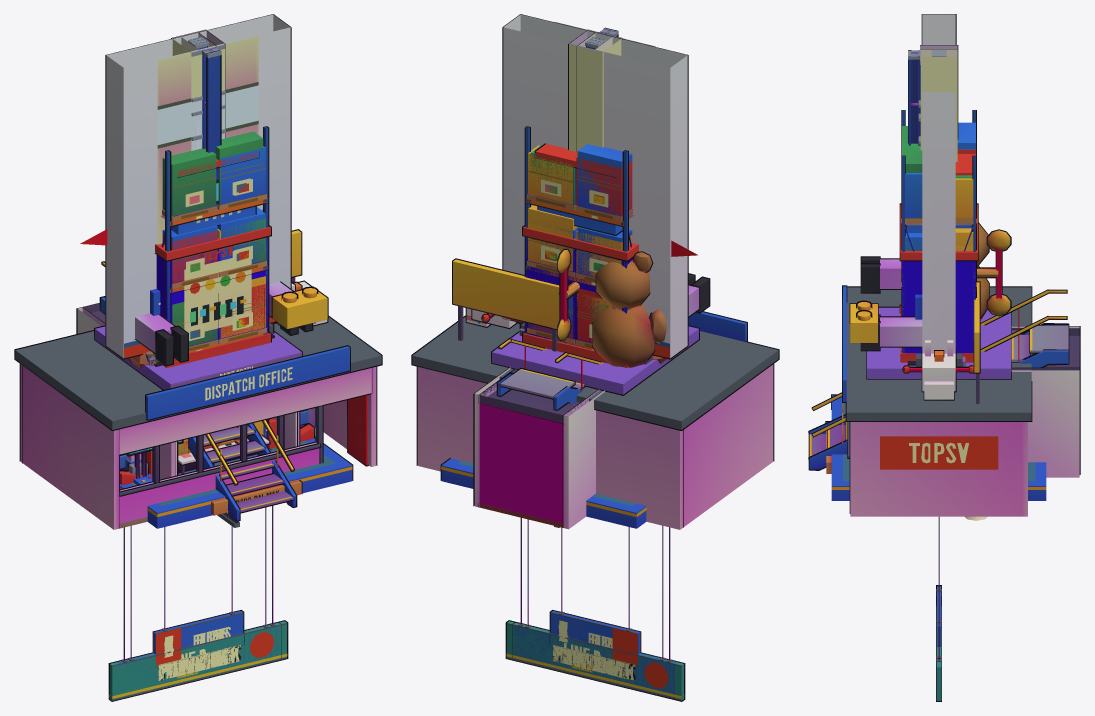
The model's file is fps-kit-toyfactory.glb.
3 views of the same model, side by side, from view 1: azimuth 30°, elevation 25°; view 2: azimuth 150°, elevation 25°; view 3: azimuth 270°, elevation 25° (orthographic). The views are drawn at different scales.
Parts seen in each view (by area): view 1: KIT_TOYFACTORY_Landmark_Office, KIT_TOYFACTORY_GateFrame, KIT_TOYFACTORY_Landmark_Robot, KIT_TOYFACTORY_Tall_EndR, KIT_TOYFACTORY_Tall_EndL, KIT_TOYFACTORY_Tall_A, KIT_TOYFACTORY_WK_Dock, KIT_TOYFACTORY_Dept_Loft, KIT_TOYFACTORY_Stair, KIT_TOYFACTORY_Booth, KIT_TOYFACTORY_WinK3, KIT_TOYFACTORY_Aisle_1 (+4 smaller); view 2: KIT_TOYFACTORY_Landmark_Office, KIT_TOYFACTORY_GateFrame, KIT_TOYFACTORY_WK_Dock, KIT_TOYFACTORY_Landmark_Robot, KIT_TOYFACTORY_Tall_EndR, KIT_TOYFACTORY_Tall_A, KIT_TOYFACTORY_Dept_Loft, KIT_TOYFACTORY_Line_A, KIT_TOYFACTORY_Booth, KIT_TOYFACTORY_CornerK, KIT_TOYFACTORY_Tall_EndL, KIT_TOYFACTORY_Aisle_1 (+3 smaller); view 3: KIT_TOYFACTORY_Landmark_Office, KIT_TOYFACTORY_Landmark_Robot, KIT_TOYFACTORY_GateFrame, KIT_TOYFACTORY_WK_Dock, KIT_TOYFACTORY_Stair, KIT_TOYFACTORY_Booth, KIT_TOYFACTORY_Tall_EndR, KIT_TOYFACTORY_Horse, KIT_TOYFACTORY_Tall_EndL, KIT_TOYFACTORY_CornerK, KIT_TOYFACTORY_WK_Col, KIT_TOYFACTORY_Tall_A (+3 smaller).
Boxes of the visible parts, <box> form: KIT_TOYFACTORY_Landmark_Office: <box>14,229,382,529</box>; KIT_TOYFACTORY_GateFrame: <box>105,14,291,365</box>; KIT_TOYFACTORY_Landmark_Robot: <box>120,151,353,528</box>; KIT_TOYFACTORY_Tall_EndR: <box>162,126,271,451</box>; KIT_TOYFACTORY_Tall_EndL: <box>161,146,266,455</box>; KIT_TOYFACTORY_Tall_A: <box>161,150,268,455</box>; KIT_TOYFACTORY_WK_Dock: <box>76,36,297,475</box>; KIT_TOYFACTORY_Dept_Loft: <box>108,506,288,701</box>; KIT_TOYFACTORY_Stair: <box>99,261,297,521</box>; KIT_TOYFACTORY_Booth: <box>94,325,302,479</box>; KIT_TOYFACTORY_WinK3: <box>158,85,258,144</box>; KIT_TOYFACTORY_Aisle_1: <box>152,526,244,666</box>; KIT_TOYFACTORY_Landmark_Office: <box>411,240,779,529</box>; KIT_TOYFACTORY_GateFrame: <box>502,14,688,364</box>; KIT_TOYFACTORY_WK_Dock: <box>473,22,655,529</box>; KIT_TOYFACTORY_Landmark_Robot: <box>440,143,710,528</box>; KIT_TOYFACTORY_Tall_EndR: <box>524,126,632,350</box>; KIT_TOYFACTORY_Tall_A: <box>525,150,633,349</box>; KIT_TOYFACTORY_Dept_Loft: <box>505,517,685,701</box>; KIT_TOYFACTORY_Line_A: <box>512,519,677,700</box>; KIT_TOYFACTORY_Booth: <box>491,325,699,395</box>; KIT_TOYFACTORY_CornerK: <box>568,29,622,152</box>; KIT_TOYFACTORY_Tall_EndL: <box>527,145,632,338</box>; KIT_TOYFACTORY_Aisle_1: <box>549,527,641,666</box>; KIT_TOYFACTORY_Landmark_Office: <box>842,222,1032,516</box>; KIT_TOYFACTORY_Landmark_Robot: <box>825,134,1046,500</box>; KIT_TOYFACTORY_GateFrame: <box>915,14,965,366</box>; KIT_TOYFACTORY_WK_Dock: <box>907,326,1080,477</box>; KIT_TOYFACTORY_Stair: <box>808,289,1069,470</box>; KIT_TOYFACTORY_Booth: <box>866,306,1011,379</box>; KIT_TOYFACTORY_Tall_EndR: <box>901,122,976,353</box>; KIT_TOYFACTORY_Horse: <box>902,340,973,400</box>; KIT_TOYFACTORY_Tall_EndL: <box>901,173,976,250</box>; KIT_TOYFACTORY_CornerK: <box>920,45,958,161</box>; KIT_TOYFACTORY_WK_Col: <box>908,50,920,145</box>; KIT_TOYFACTORY_Tall_A: <box>901,110,976,350</box>.
Bounding box in the file's own units: 8.04 × 18.12 × 7.35.
Materials: 1 (1 with a texture image).
